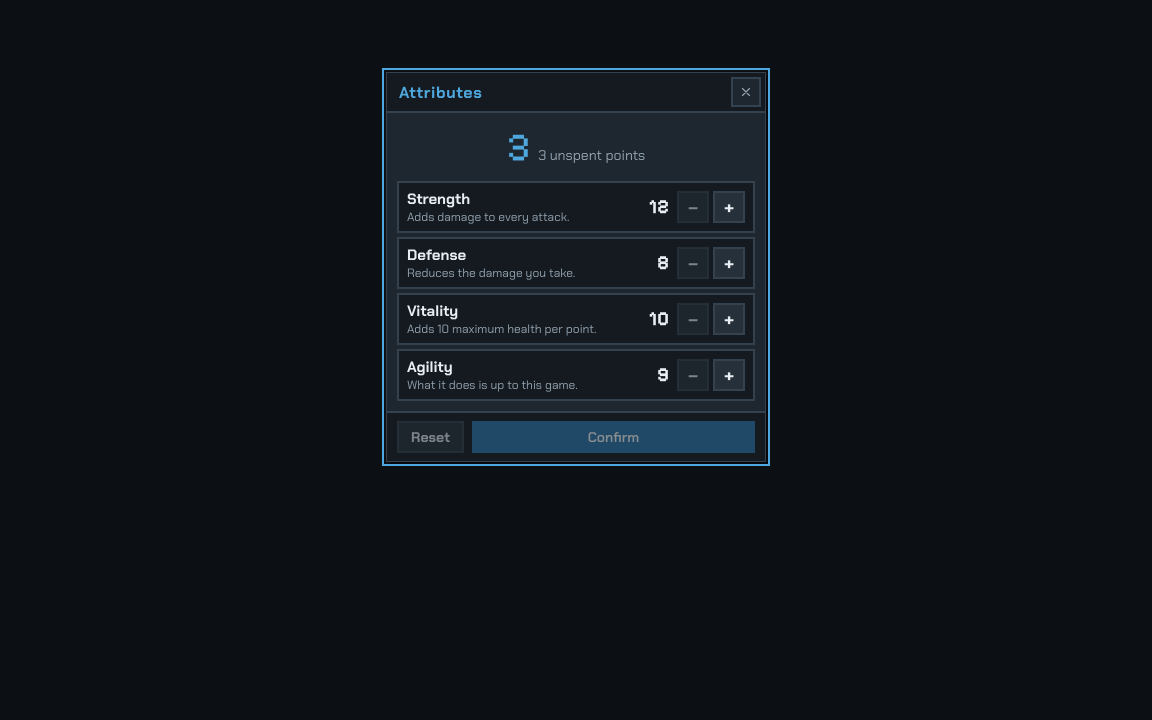
Test case: AttributeDistributorModal › puts everything back with Reset
Click the button named "Increase Defense".
click(729, 263)  # box x1=713 y1=247 x2=745 y2=279
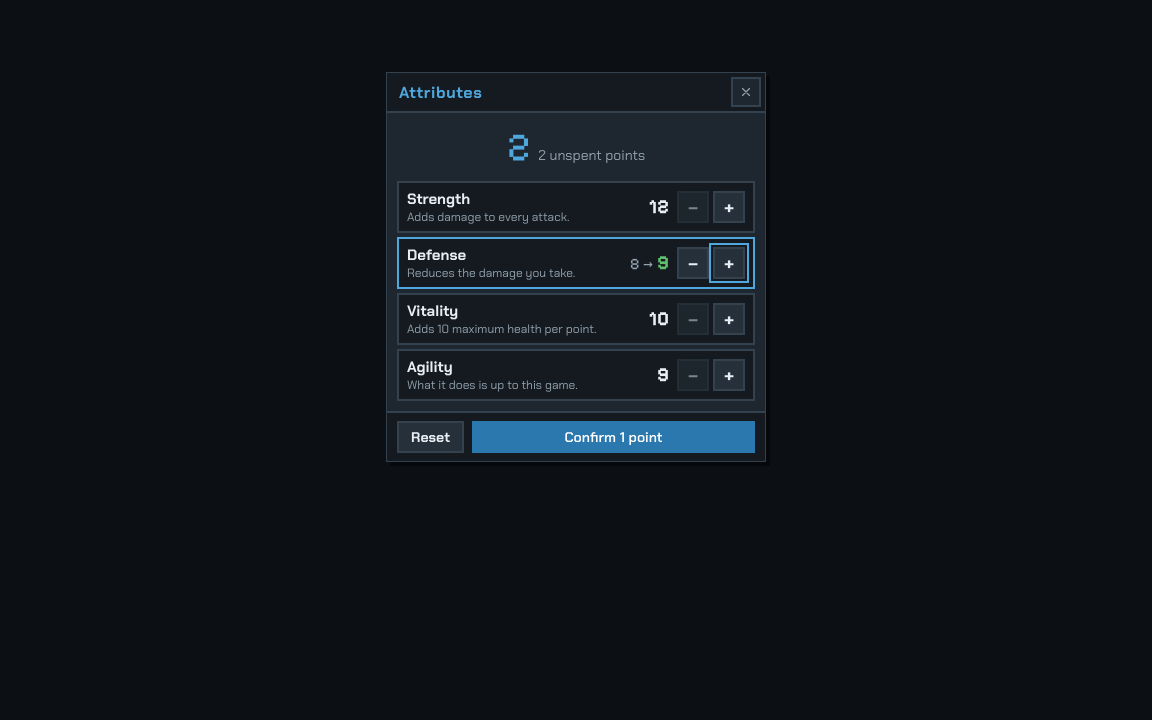
Click the button "Reset".
click(431, 437)  # box x1=397 y1=421 x2=464 y2=453
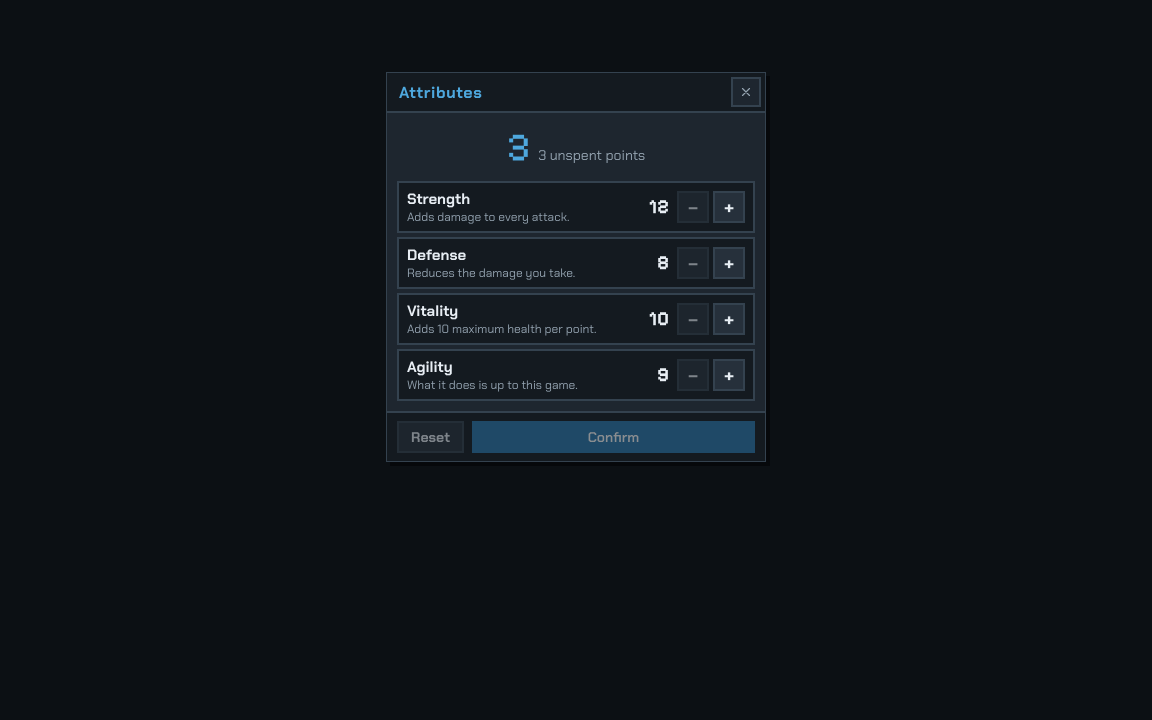
Check: the text "3 unspent points" is shown, box x1=538 y1=146 x2=645 y2=164
